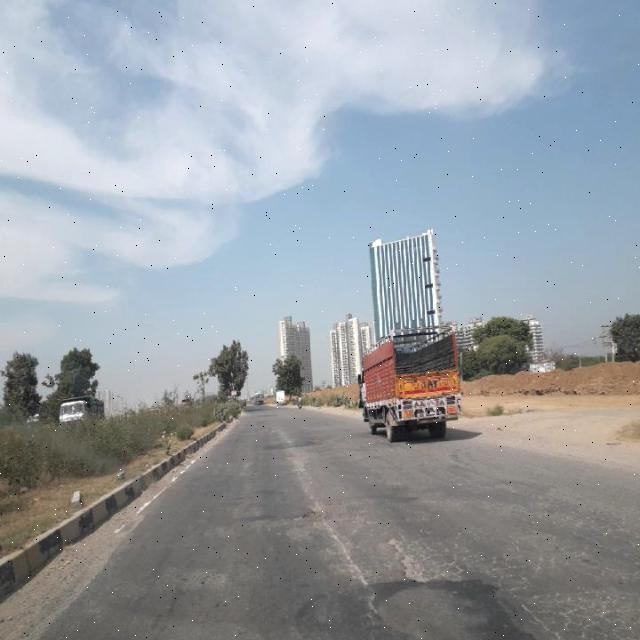D00: (292, 458, 386, 630), (114, 587, 195, 637)
D20: (386, 491, 638, 639), (384, 527, 442, 585)
